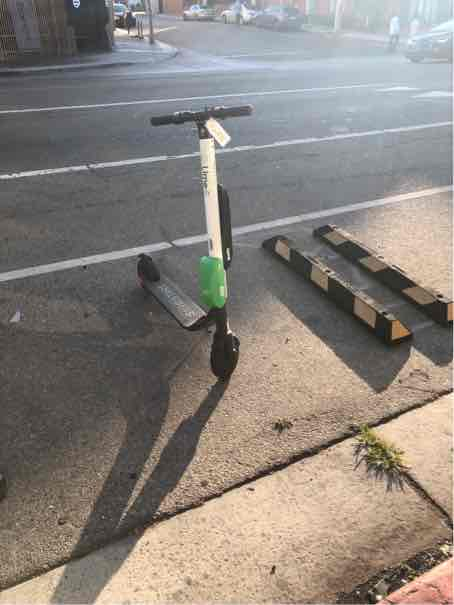scooter: (124, 95, 250, 398)
